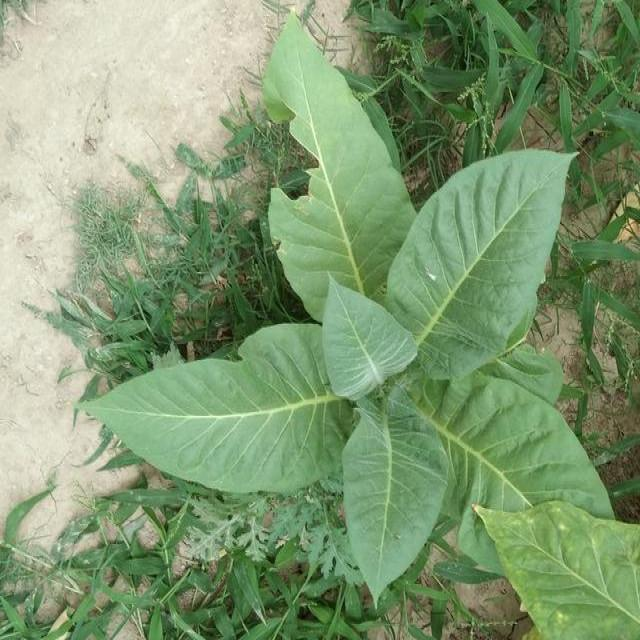crop: (81, 14, 621, 602)
